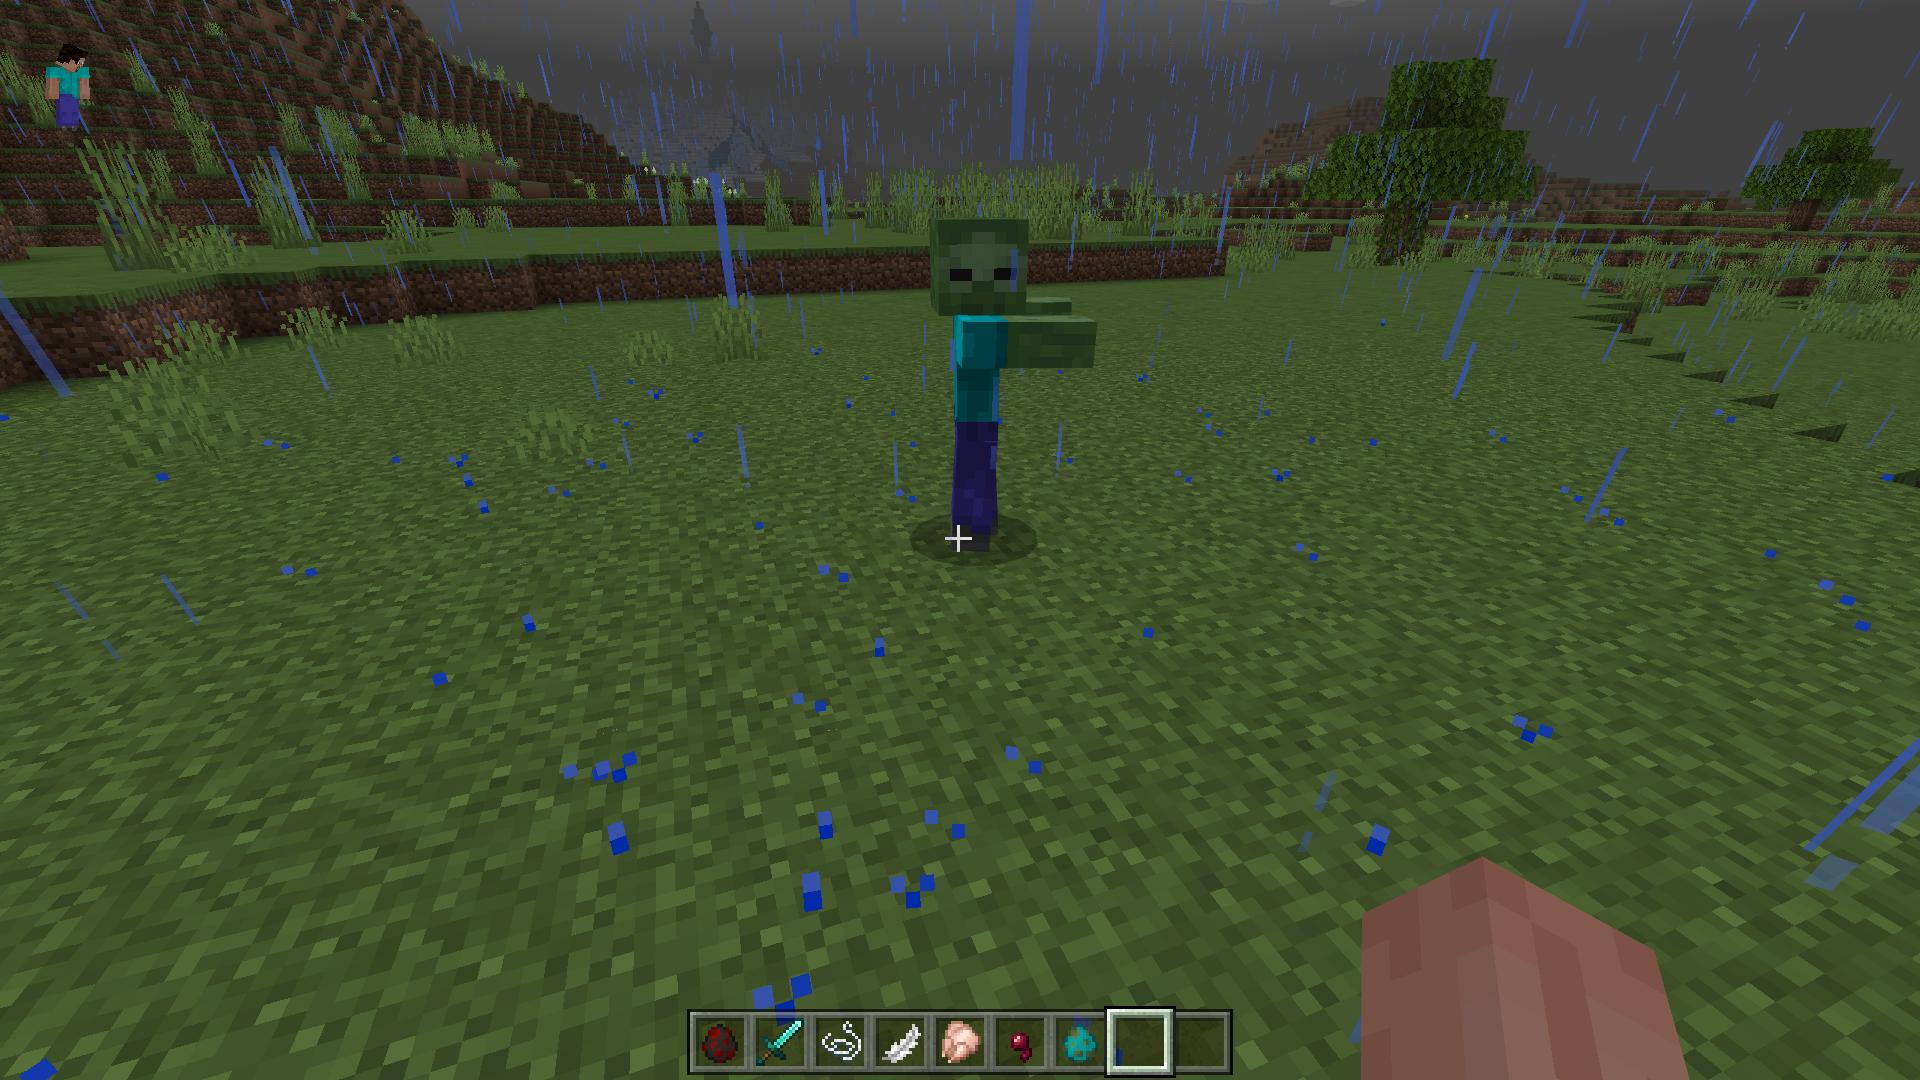zombie: (927, 219, 1104, 555)
